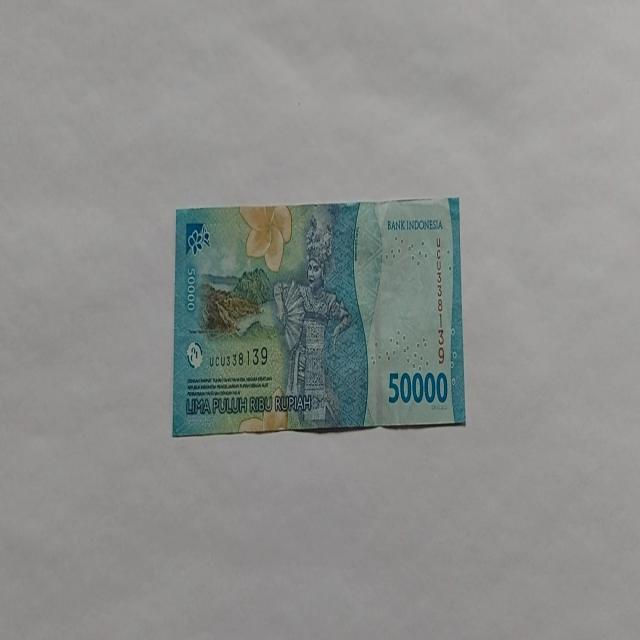lima puluh ribu rupiah: (171, 196, 466, 436)
